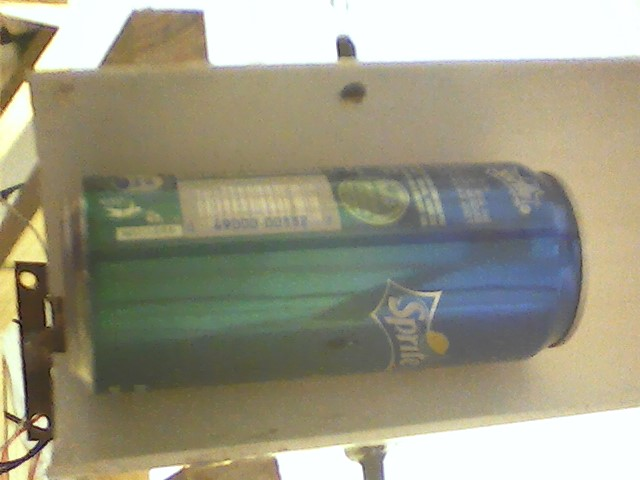lata: (54, 154, 599, 389)
